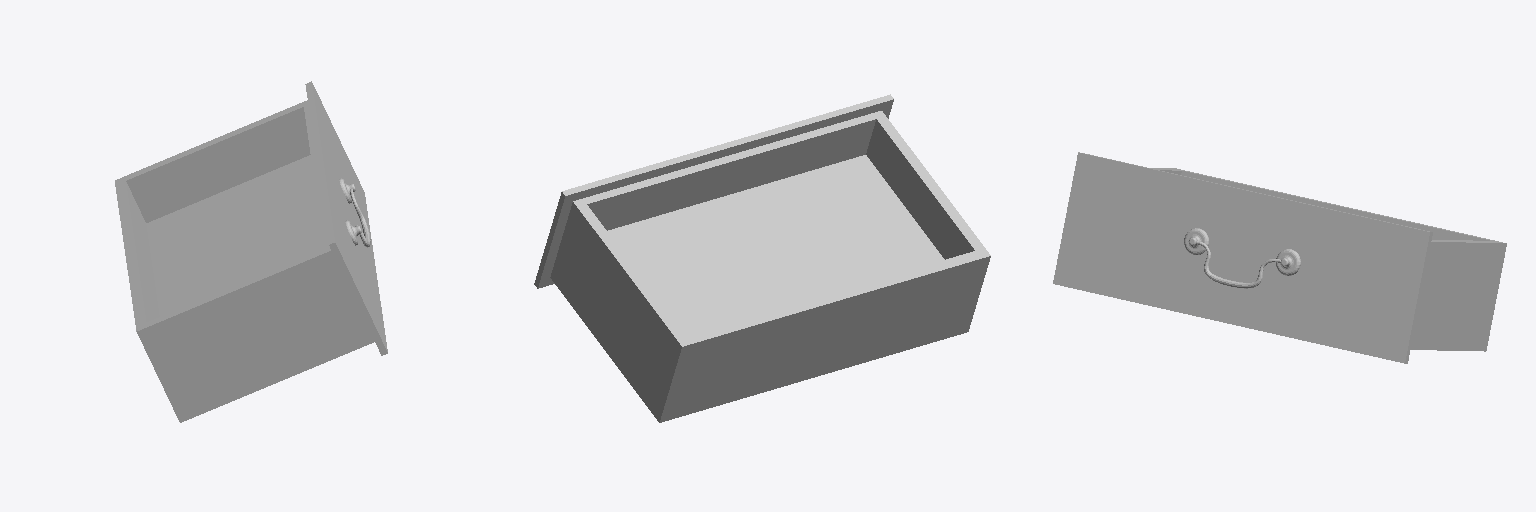
File: d1_drawer1.obj
The picture shows the model from 3 angles: view 1: azimuth 30°, elevation 25°; view 2: azimuth 150°, elevation 25°; view 3: azimuth 270°, elevation 25°; orthographic projection.
Visible parts, largest first — view 1: Drawers_low.005__0; view 2: Drawers_low.005__0; view 3: Drawers_low.005__0, Handle02_low.005__0, Handle_low.005__0.
Part boxes in pixels (left/top/right/bottom): Drawers_low.005__0: left=115, top=81, right=387, bottom=422; Drawers_low.005__0: left=534, top=94, right=990, bottom=422; Drawers_low.005__0: left=1053, top=152, right=1506, bottom=363; Handle02_low.005__0: left=1184, top=228, right=1300, bottom=275; Handle_low.005__0: left=1197, top=241, right=1280, bottom=288.
Size of the model in its own units: 4.61 by 2.39 by 5.29.